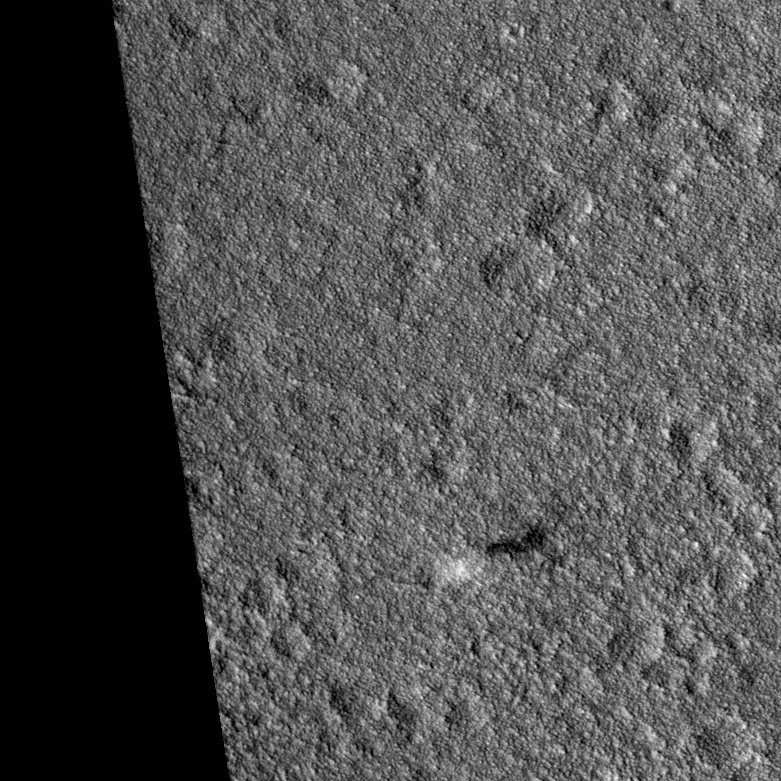dust_devil: (434, 517, 552, 586)
